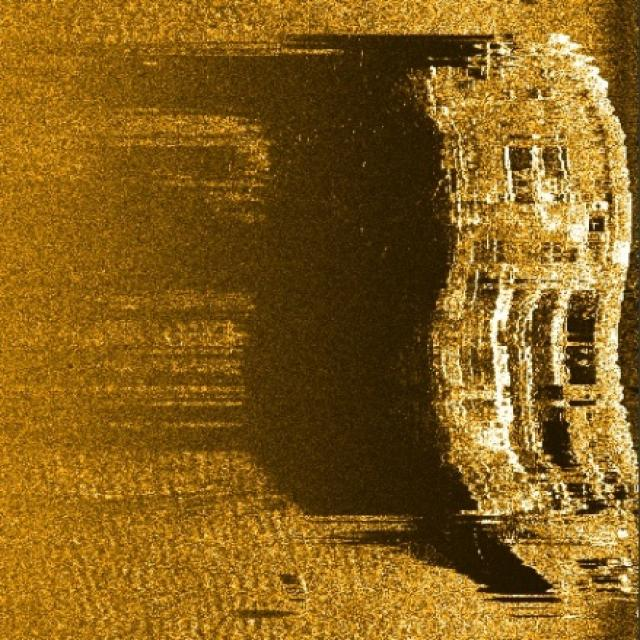ship: (412, 41, 638, 606)
